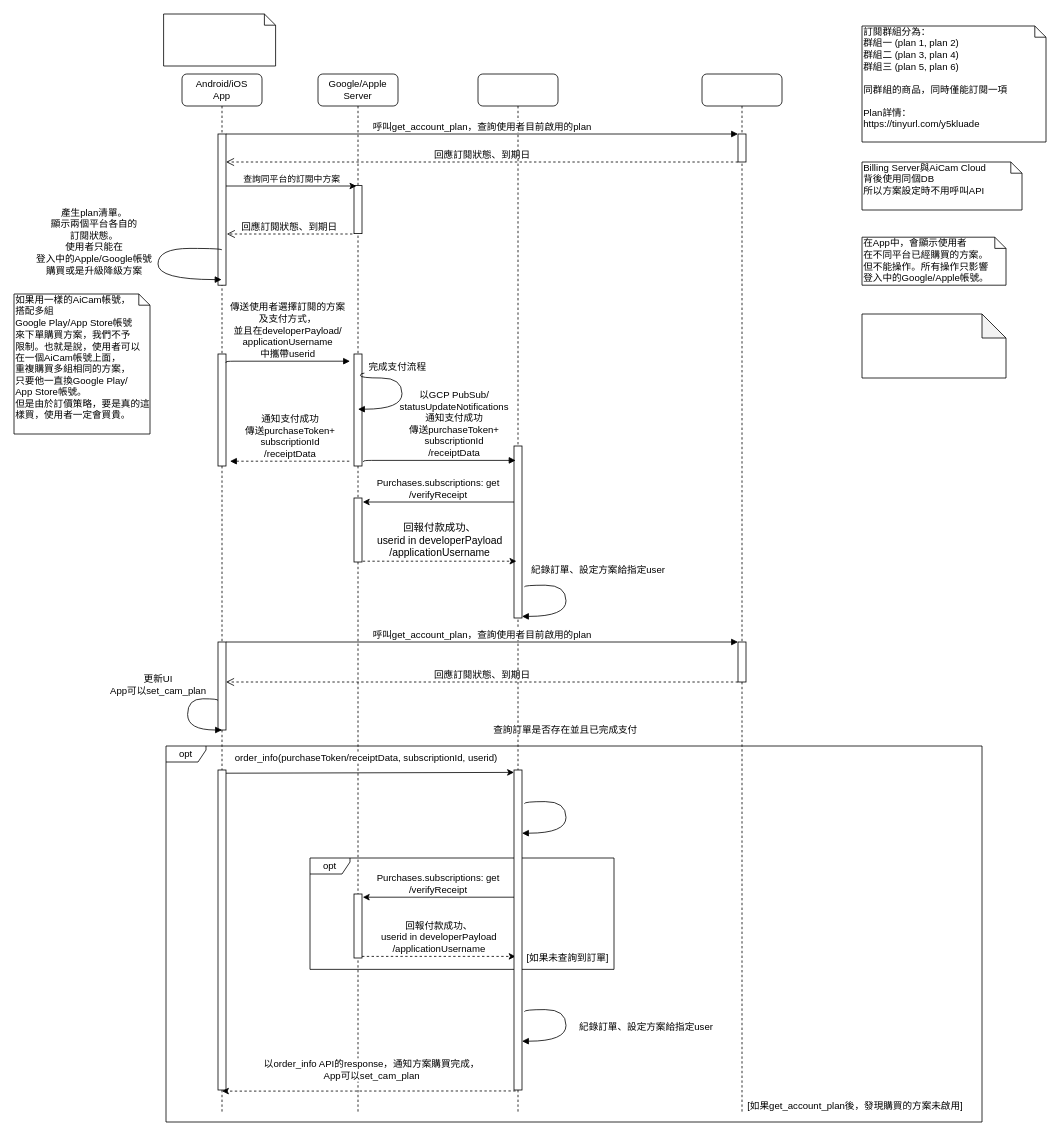
Image size: 1060x1136. Some labels were removed from this diagram. Each missing label, with the box of its shape:
AiCam Cloud: (701, 73, 782, 1114)
Billing Server: (477, 73, 558, 1114)
由app決定要查詢的 商品ID有哪些。所以 app上要有商品ID清單。 此處指的商品即為方案。: (163, 13, 276, 66)
購買時，限制如下： 不可購買使用中的plan， 與生效中plan相同group的 plan，則可以升級或降級: (861, 313, 1006, 378)
